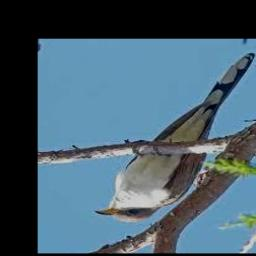Cuckoo: (97, 53, 256, 222)
